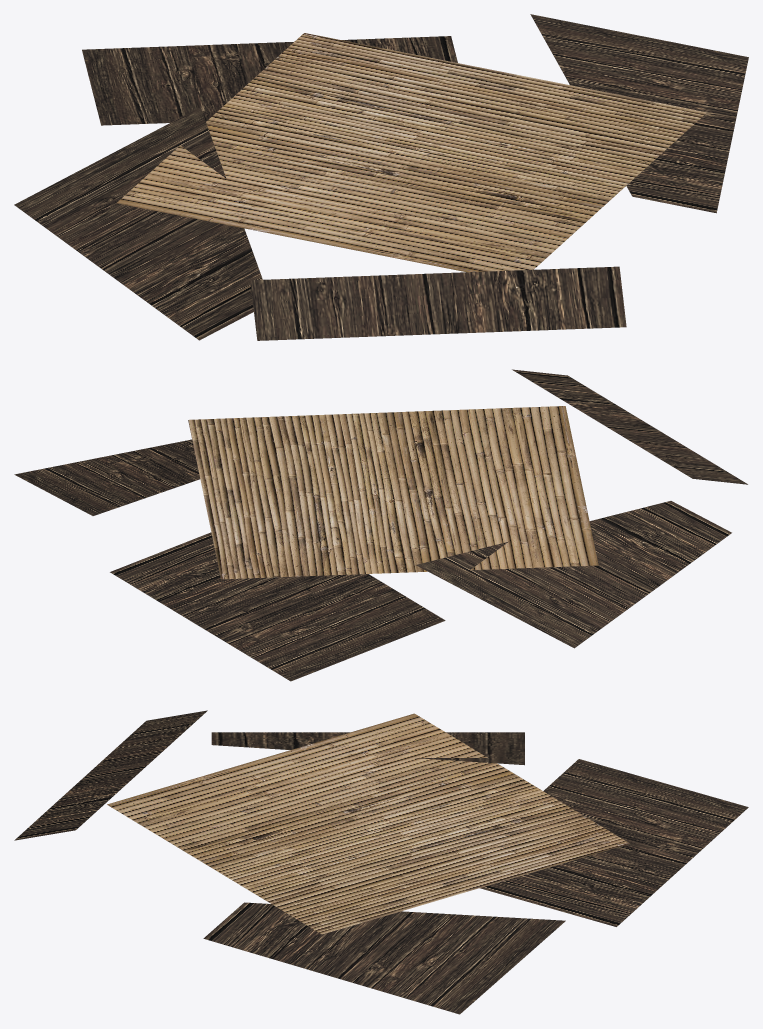
Rendered from build2_d2.FBX.
The picture shows the model from 3 angles, top to bottom: view 1: azimuth 30°, elevation 25°; view 2: azimuth 150°, elevation 25°; view 3: azimuth 270°, elevation 25°; orthographic projection. The views are drawn at different scales.
Parts seen in each view (by area): view 1: build2_d2; view 2: build2_d2; view 3: build2_d2.
Part boxes in pixels (box(x1,y1,x2,y2)): build2_d2: box(14, 14, 748, 340); build2_d2: box(14, 369, 747, 681); build2_d2: box(14, 710, 748, 1014).
Bounding box in the file's own units: 130 × 9.34 × 141.
